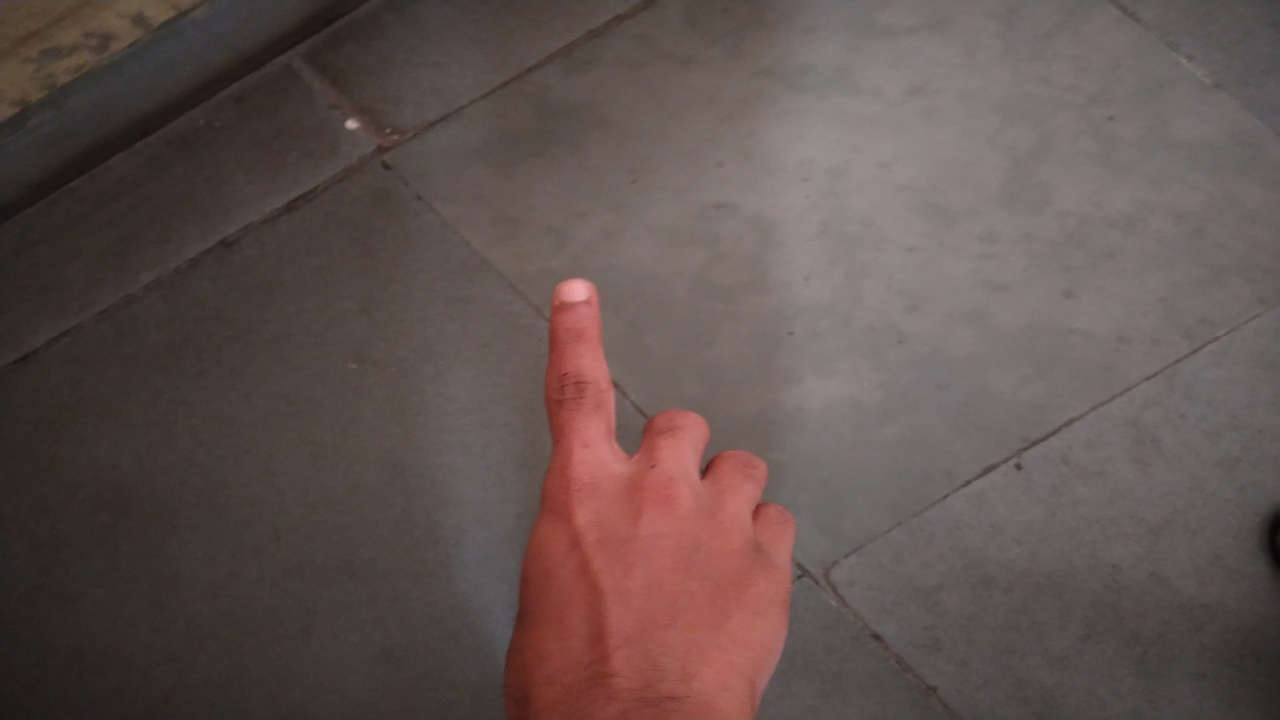fingertip: (544, 268, 606, 324)
